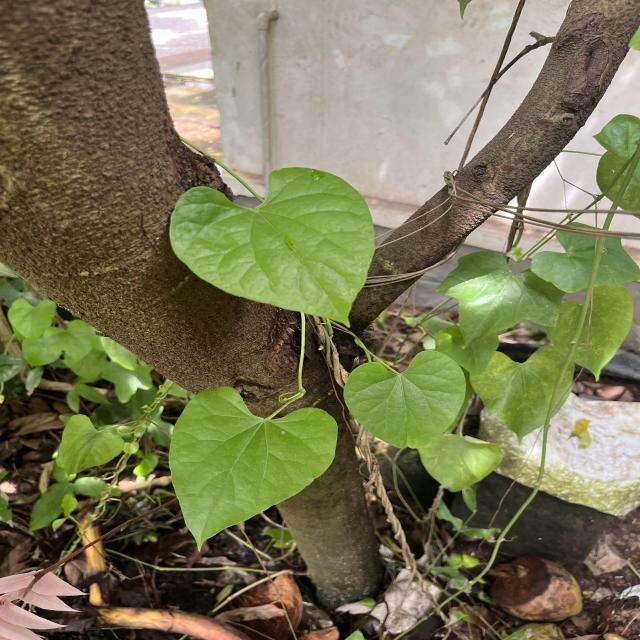Tinospora cordifolia: (168, 165, 379, 331), (166, 383, 340, 555), (340, 347, 470, 453)
